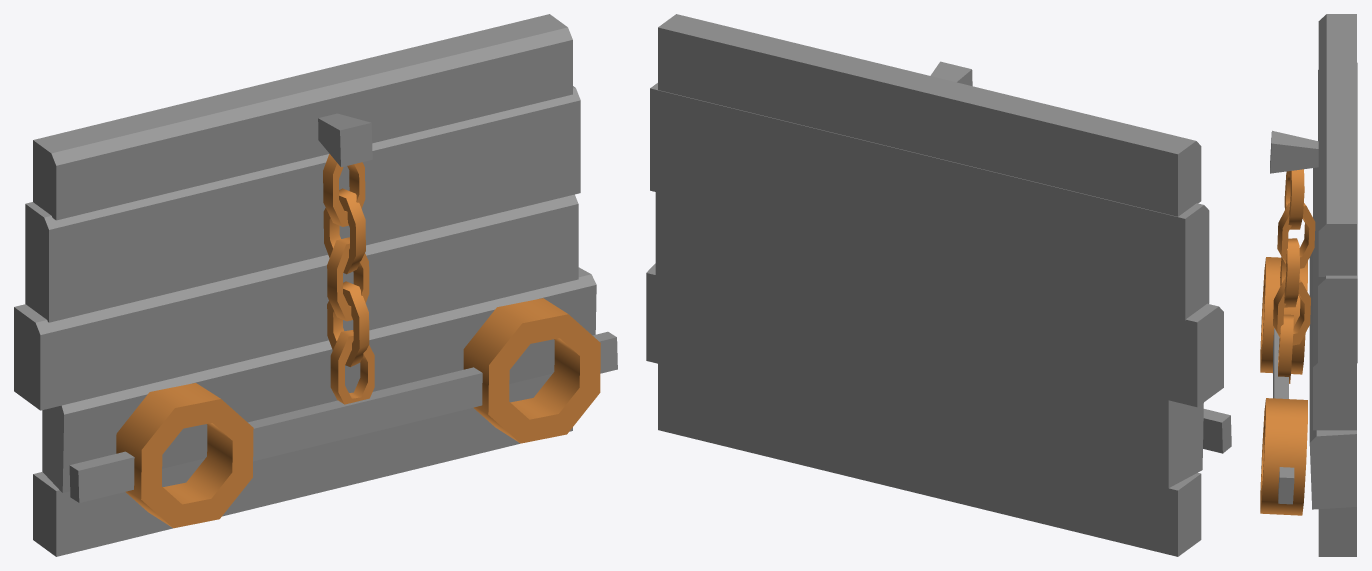
File: Folterwerkzeug.FBX
3 views of the same model, side by side, from view 1: azimuth 30°, elevation 25°; view 2: azimuth 150°, elevation 25°; view 3: azimuth 270°, elevation 25° (orthographic). The views are drawn at different scales.
Visible parts, largest first — view 1: Tube002; view 2: Tube002; view 3: Tube002.
Boxes of the visible parts, <box> form: Tube002: <box>14,14,617,556</box>; Tube002: <box>646,14,1231,556</box>; Tube002: <box>1260,14,1357,556</box>.
Size of the model in its own units: 85.09 by 58.43 by 15.49.
